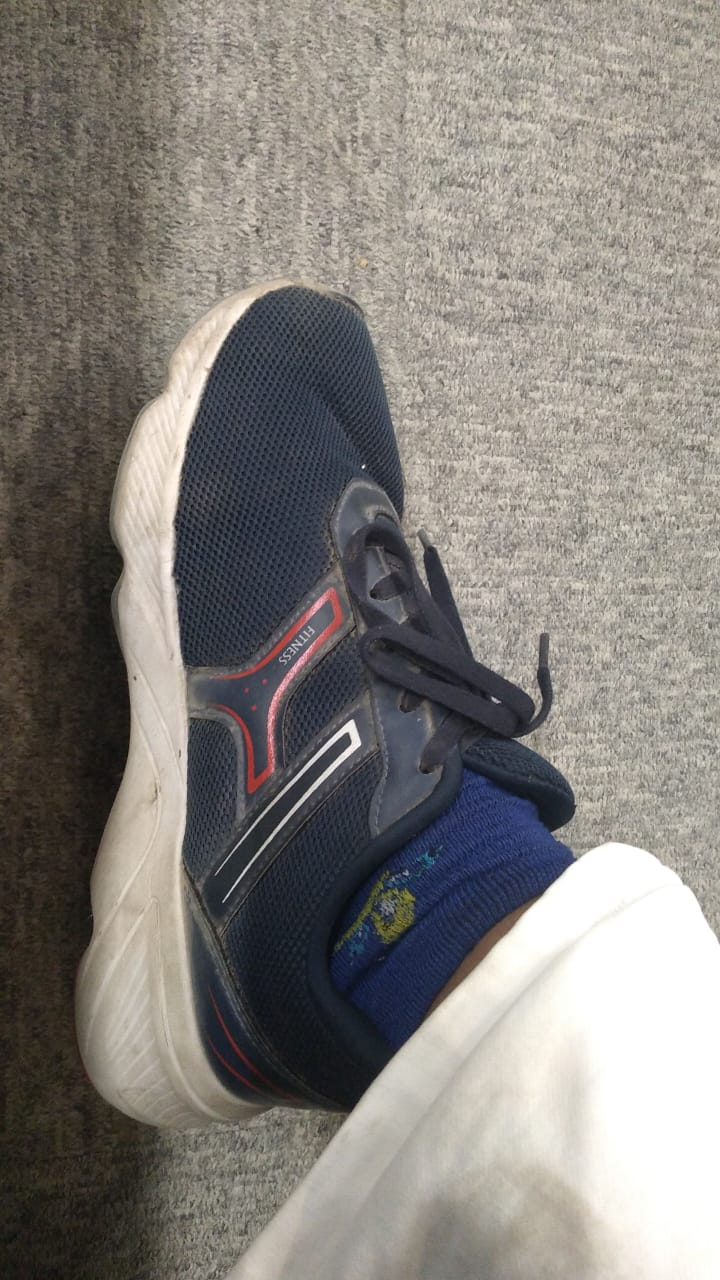Footwear: (72, 265, 612, 1127)
